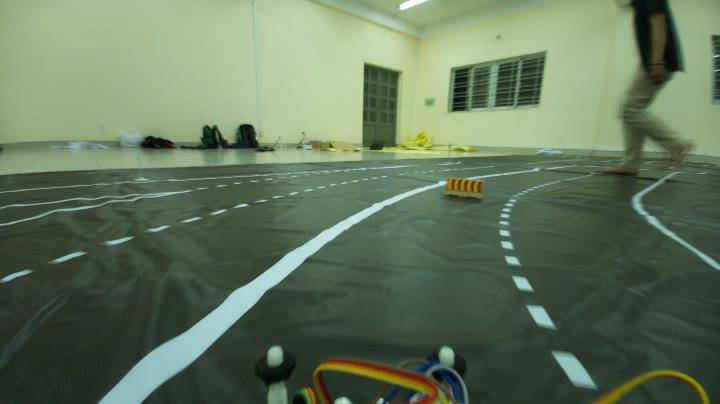roadblock: (437, 173, 489, 202)
